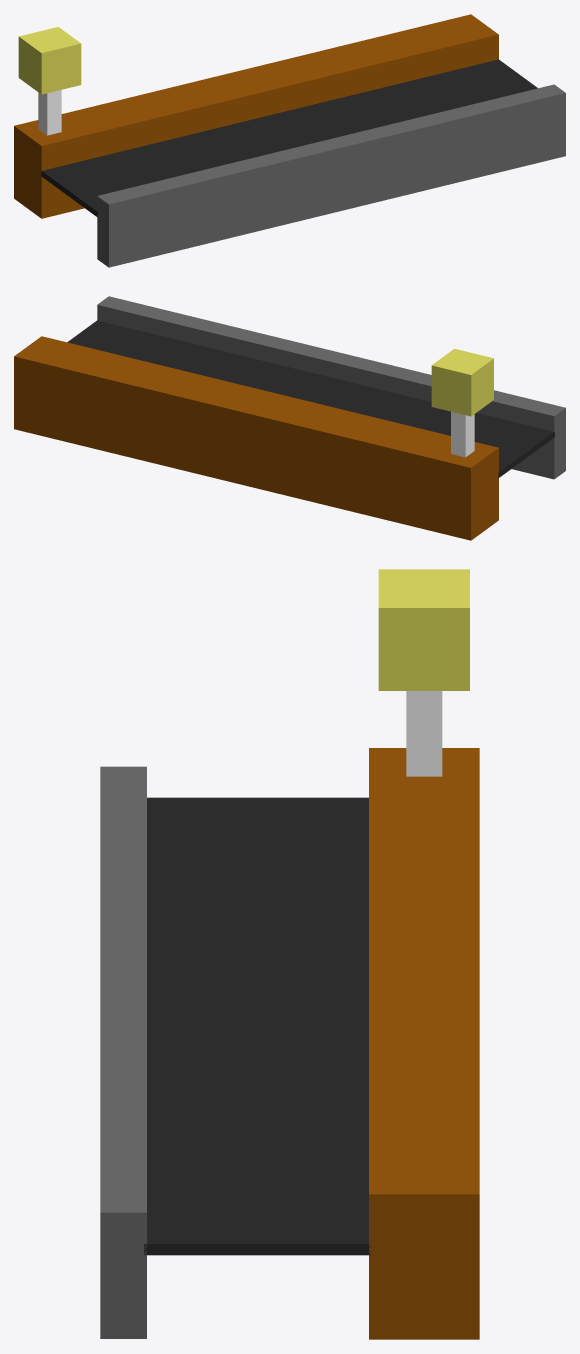
Rendered from checkout.fbx.
3 views of the same model, one above another, from view 1: azimuth 30°, elevation 25°; view 2: azimuth 150°, elevation 25°; view 3: azimuth 270°, elevation 25° (orthographic). The views are drawn at different scales.
Parts seen in each view (by area): view 1: Cube.002, Cube, Cube.001, Cube.004, Cube.003; view 2: Cube, Cube.001, Cube.002, Cube.004, Cube.003; view 3: Cube.001, Cube, Cube.002, Cube.004, Cube.003.
Part boxes in pixels (x1,y1,x2,y2): Cube.002: [97, 84, 565, 267]; Cube: [14, 14, 498, 218]; Cube.001: [41, 59, 537, 216]; Cube.004: [18, 27, 81, 94]; Cube.003: [38, 90, 61, 135]; Cube: [14, 336, 498, 540]; Cube.001: [67, 320, 554, 478]; Cube.002: [97, 296, 565, 479]; Cube.004: [431, 348, 493, 416]; Cube.003: [451, 411, 474, 457]; Cube.001: [144, 797, 370, 1255]; Cube: [369, 748, 479, 1339]; Cube.002: [100, 766, 146, 1338]; Cube.004: [378, 569, 469, 690]; Cube.003: [406, 691, 442, 776].
Bounding box in the file's own units: 828 × 283 × 298.
